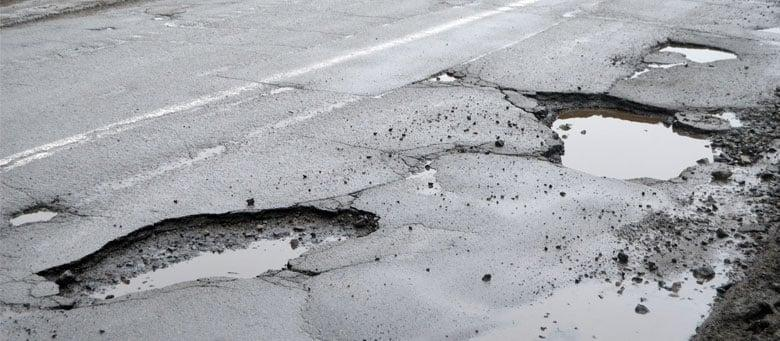pothole: (41, 202, 379, 296), (544, 96, 712, 178), (539, 92, 671, 181)
